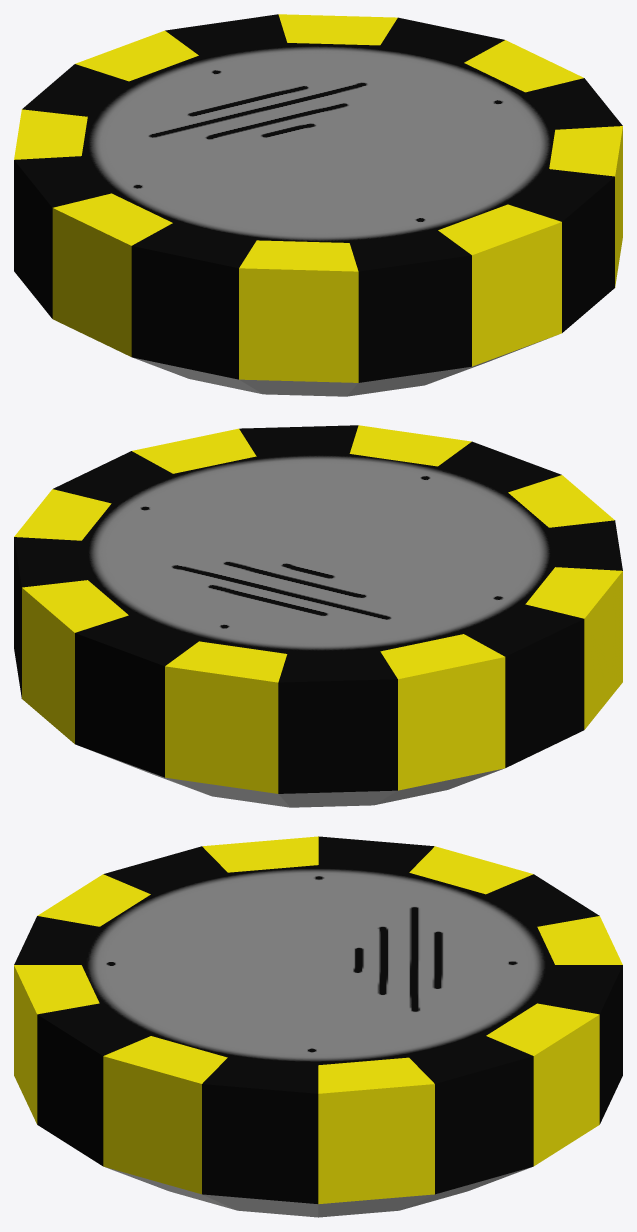
File: Objeto1.glb
3 renders of one model, top to bottom at view 1: azimuth 30°, elevation 25°; view 2: azimuth 150°, elevation 25°; view 3: azimuth 270°, elevation 25°, orthographic.
Parts seen in each view (by area): view 1: Plataforma; view 2: Plataforma; view 3: Plataforma.
Part boxes in pixels (x1,y1,x2,y2): Plataforma: (14,14,622,396); Plataforma: (14,425,622,807); Plataforma: (14,836,622,1217).
Size of the model in its own units: 3.2 by 1.07 by 3.2.
Materials: 1 (1 with a texture image).
